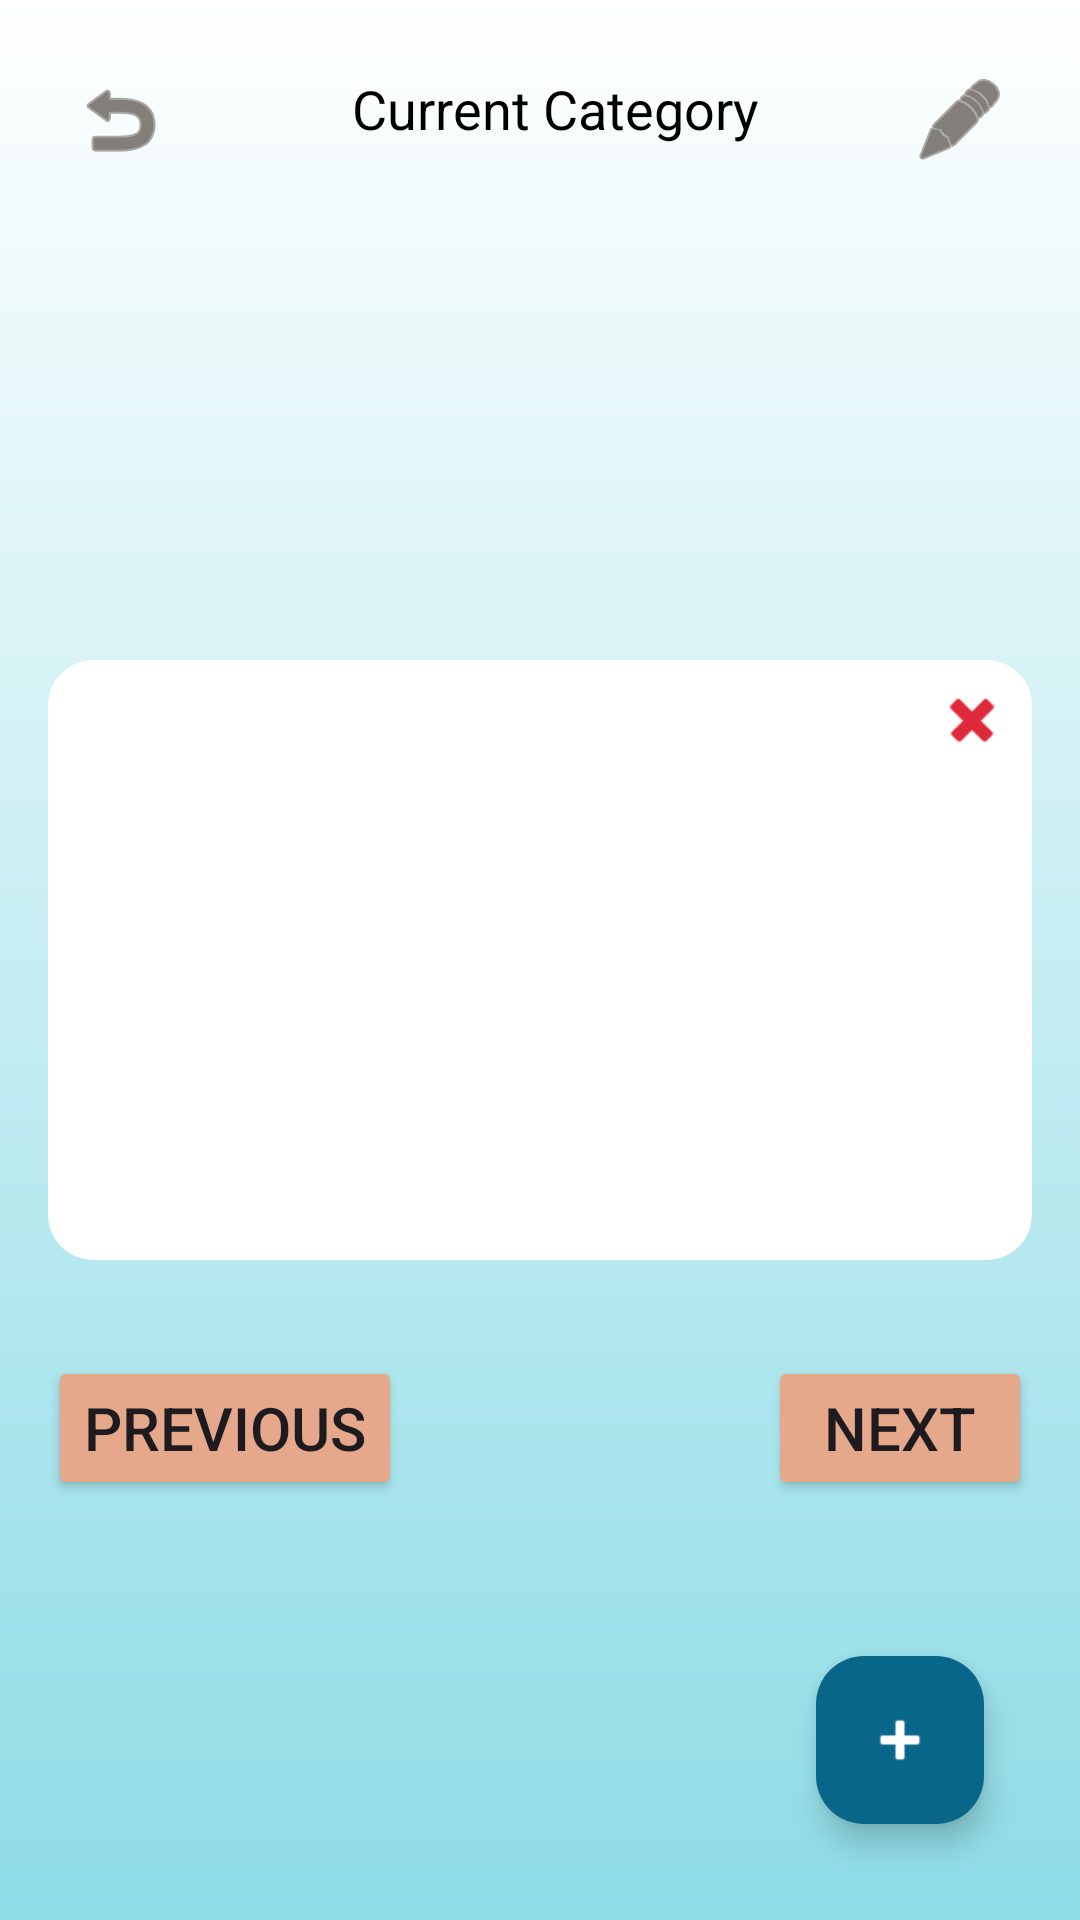

Named icons in this screenshot (1080x1920) and their centers, (x,y):
add: (900,1740)
delete: (972,720)
edit: (959,119)
revert: (121,120)
